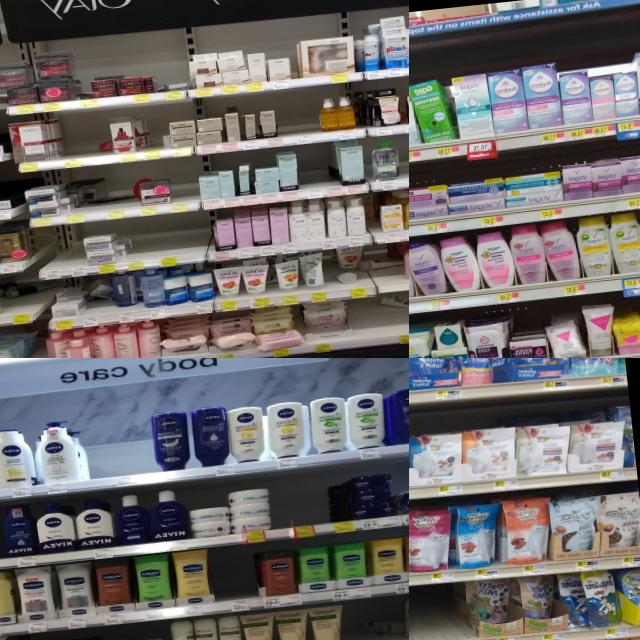100- O.O.S: (85, 417, 155, 489), (268, 474, 330, 540), (211, 548, 257, 614), (409, 583, 459, 640), (152, 215, 206, 266), (352, 308, 409, 348), (278, 93, 320, 145), (60, 121, 100, 168), (104, 171, 134, 220), (36, 228, 64, 280), (128, 219, 156, 270), (296, 144, 322, 198), (166, 166, 196, 212), (63, 227, 86, 276), (342, 599, 368, 640), (320, 145, 336, 196), (146, 118, 164, 158), (397, 134, 409, 188), (10, 295, 32, 324), (26, 338, 50, 358)
